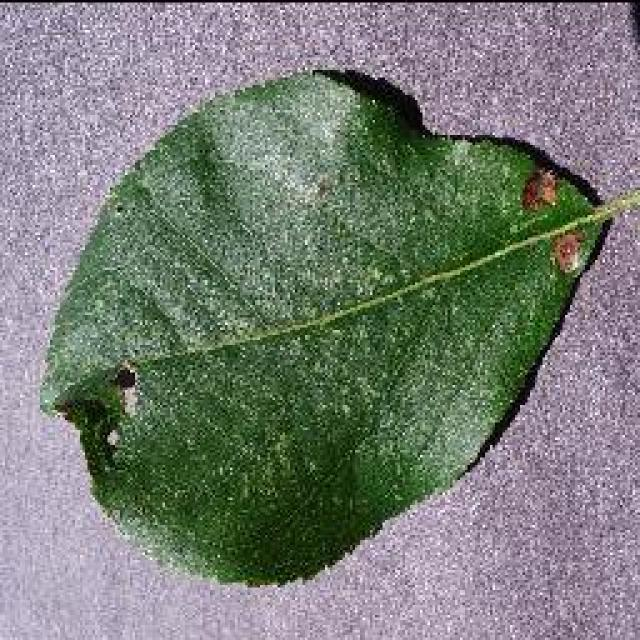apple black rot: (35, 62, 620, 588)
